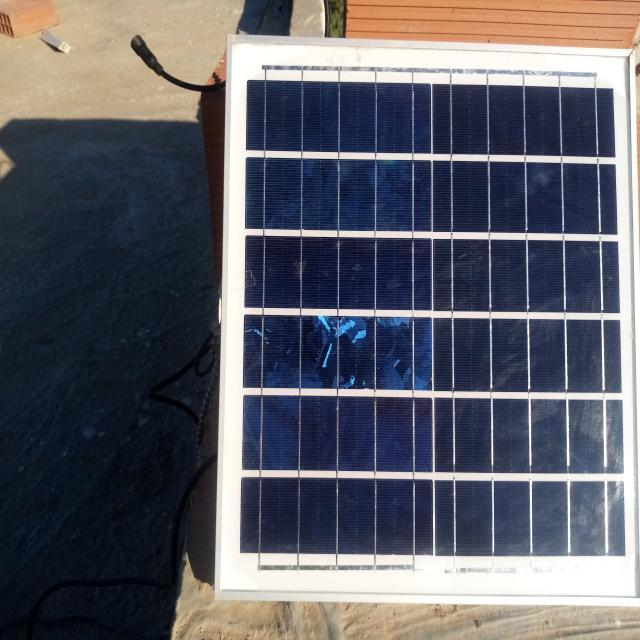no faulty: (217, 35, 637, 601)
